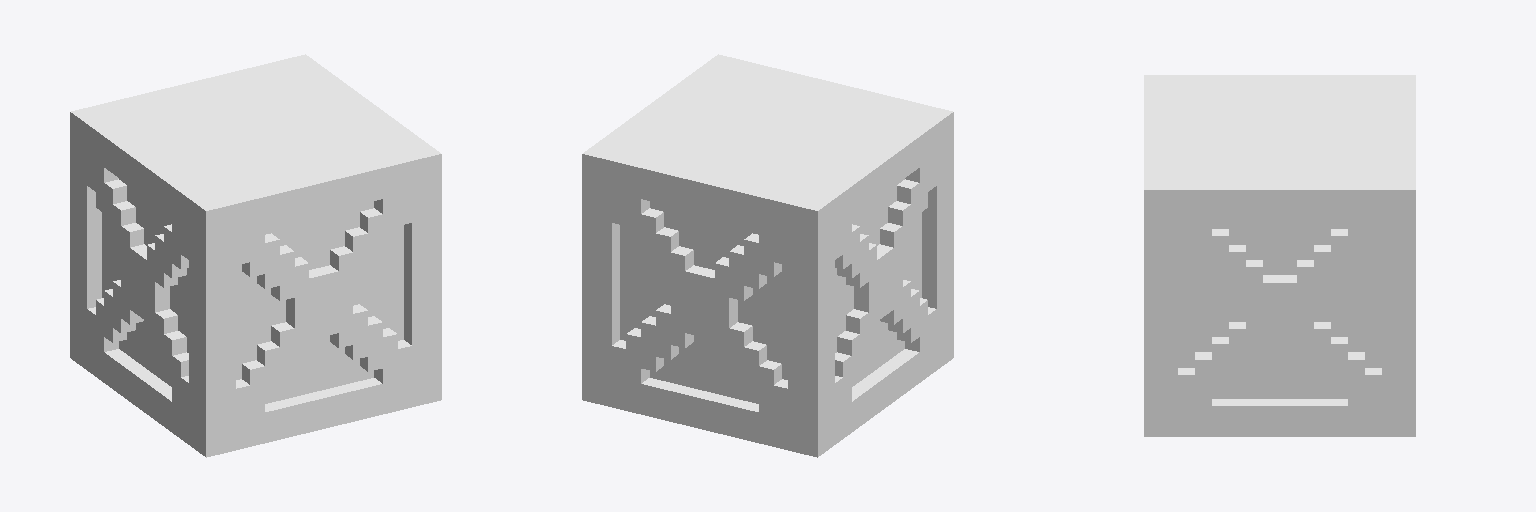
Rendered from crate000(16,16,16).obj.
The picture shows the model from 3 angles: view 1: azimuth 30°, elevation 25°; view 2: azimuth 150°, elevation 25°; view 3: azimuth 270°, elevation 25°; orthographic projection.
Size of the model in its own units: 16 by 16 by 16.